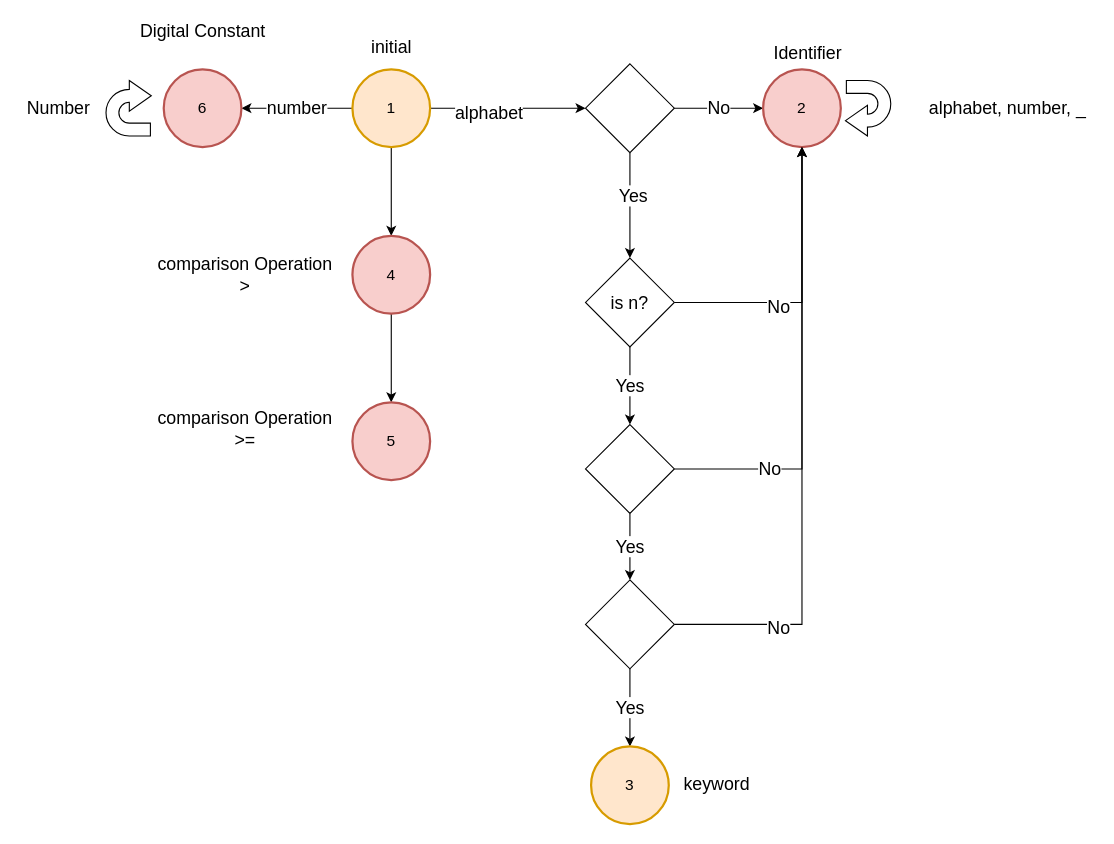
The diagram is 1114 pixels wide and 844 high, and some of its shapes have lost their labels. The shapes that lost their labels are listed below. From the top down, each one's centre as x and y in pixels, then its label:
At (x=629, y=108): "is i?".
At (x=629, y=468): "is t?".
At (x=629, y=624): "is Blank?".
